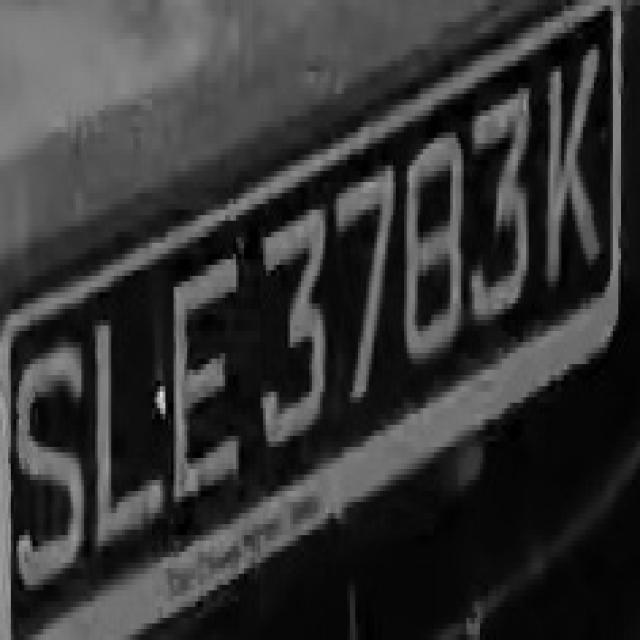3: (258, 198, 334, 452), (464, 94, 534, 331)
7: (322, 165, 398, 425)
8: (398, 138, 474, 364)
E: (162, 243, 250, 502)
K: (540, 39, 608, 287)
L: (86, 292, 162, 552)
S: (19, 314, 84, 607)
